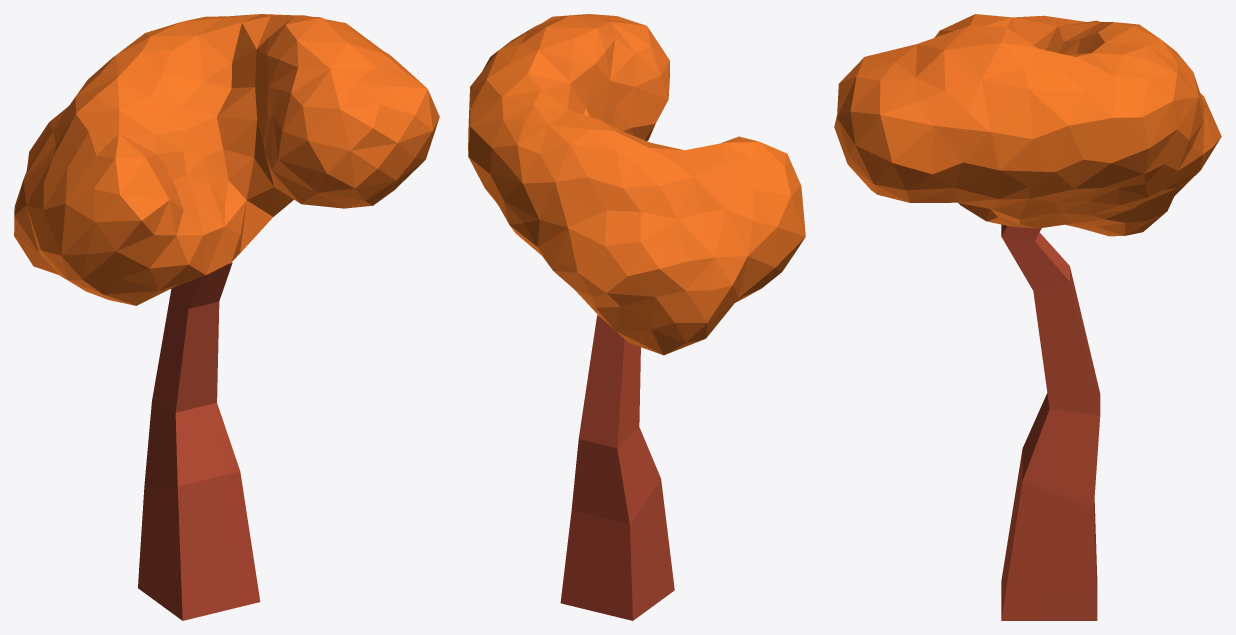
File: TreePackage.fbx_Tree_009.fbx
3 views of the same model, side by side, from view 1: azimuth 30°, elevation 25°; view 2: azimuth 150°, elevation 25°; view 3: azimuth 270°, elevation 25° (orthographic). The views are drawn at different scales.
Parts seen in each view (by area): view 1: Sphere.008, Circle.006; view 2: Sphere.008, Circle.006; view 3: Sphere.008, Circle.006.
Part boxes in pixels (left/top/right/bottom): Sphere.008: left=14, top=14, right=439, bottom=305; Circle.006: left=138, top=262, right=260, bottom=620; Sphere.008: left=468, top=14, right=805, bottom=355; Circle.006: left=560, top=315, right=674, bottom=620; Sphere.008: left=834, top=14, right=1221, bottom=236; Circle.006: left=1001, top=224, right=1100, bottom=620.
Size of the model in its own units: 341 by 549 by 317.
